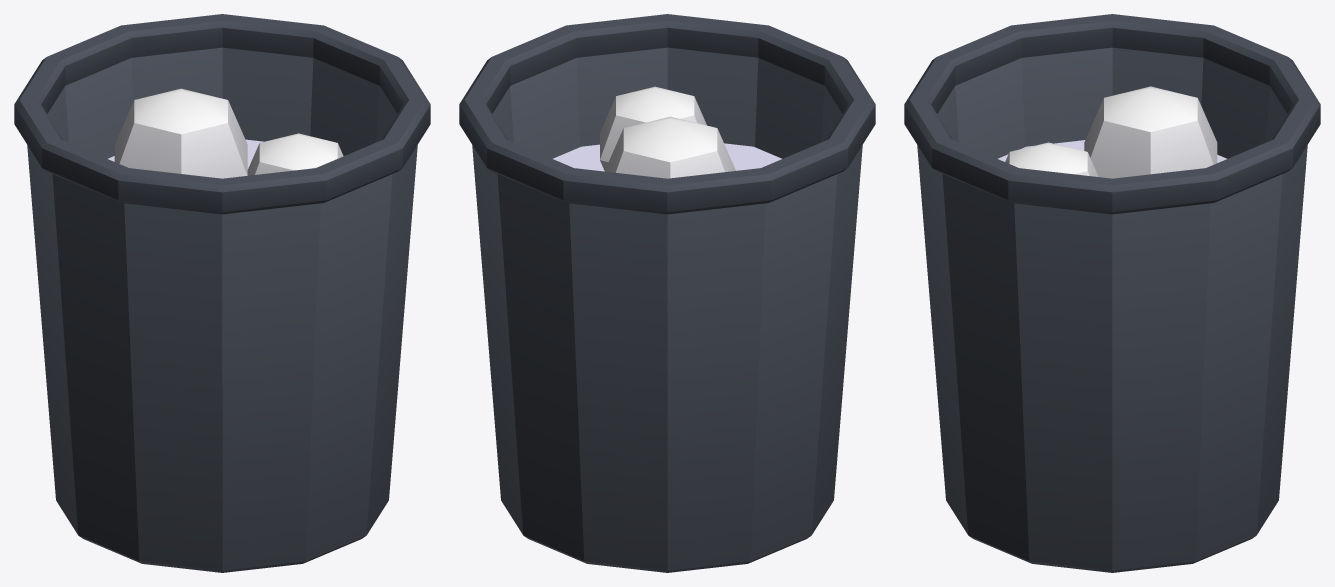
Rendered from Trash_Bin.fbx.
3 renders of one model, left to right at view 1: azimuth 30°, elevation 25°; view 2: azimuth 150°, elevation 25°; view 3: azimuth 270°, elevation 25°, orthographic.
Visible parts, largest first — view 1: Trash_Bin; view 2: Trash_Bin; view 3: Trash_Bin.
Boxes of the visible parts, <box> form: Trash_Bin: <box>14,14,430,572</box>; Trash_Bin: <box>459,14,875,572</box>; Trash_Bin: <box>904,14,1320,572</box>.
Bounding box in the file's own units: 1.47 × 1.58 × 1.47.
Materials: 1 (1 with a texture image).
